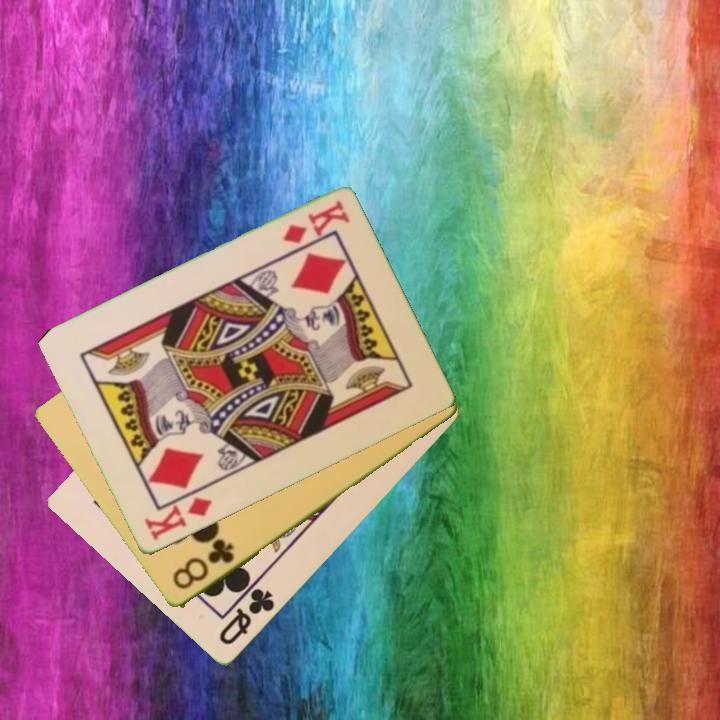8c: (168, 535, 237, 593)
Kd: (140, 493, 216, 545), (279, 197, 353, 248)
Qc: (215, 585, 278, 649)
